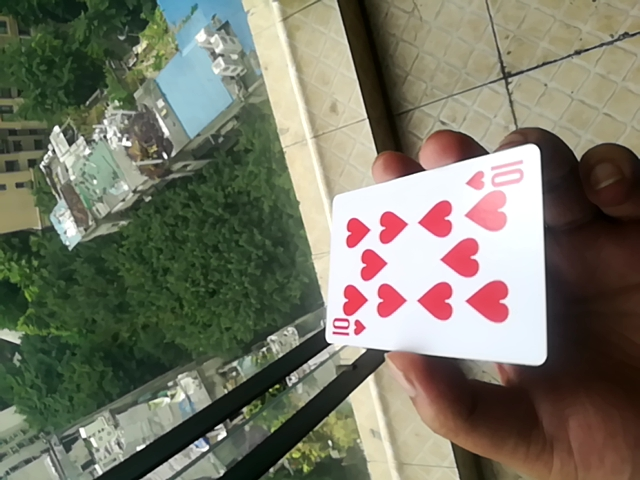hx 10: (320, 143, 543, 365)
